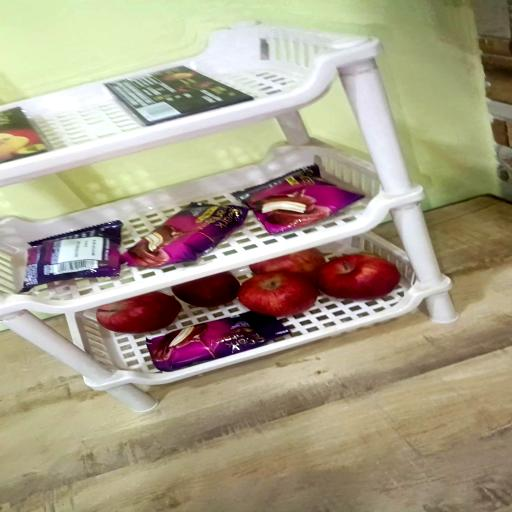Apple: (316, 255, 400, 301), (239, 273, 319, 318), (95, 292, 180, 334), (174, 273, 242, 308), (250, 250, 327, 278)
Choco Fills: (106, 65, 257, 126), (0, 106, 50, 163)
Choco Pie: (233, 167, 366, 237), (149, 313, 292, 373), (124, 203, 250, 270), (20, 222, 122, 294)
